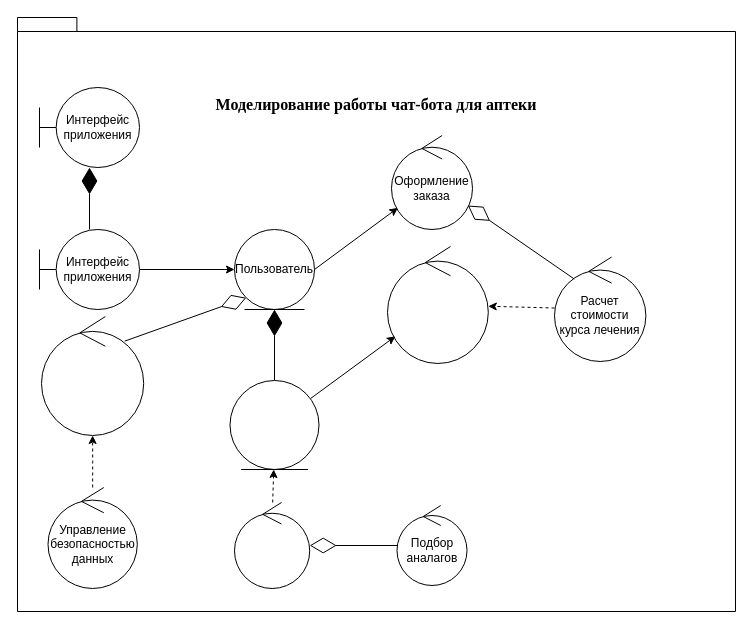
The diagram is 753 pixels wide and 629 high, and some of its shapes have lost their labels. The centre of each missing label's shape, as x and y in pixels:
"Подбор препаратов" goes at point (272, 545).
"Предоставление консультации" goes at point (437, 305).
"Симптомы и жалобы пользователя" goes at point (274, 425).
"Систематизация данных пользователей" goes at point (92, 376).
